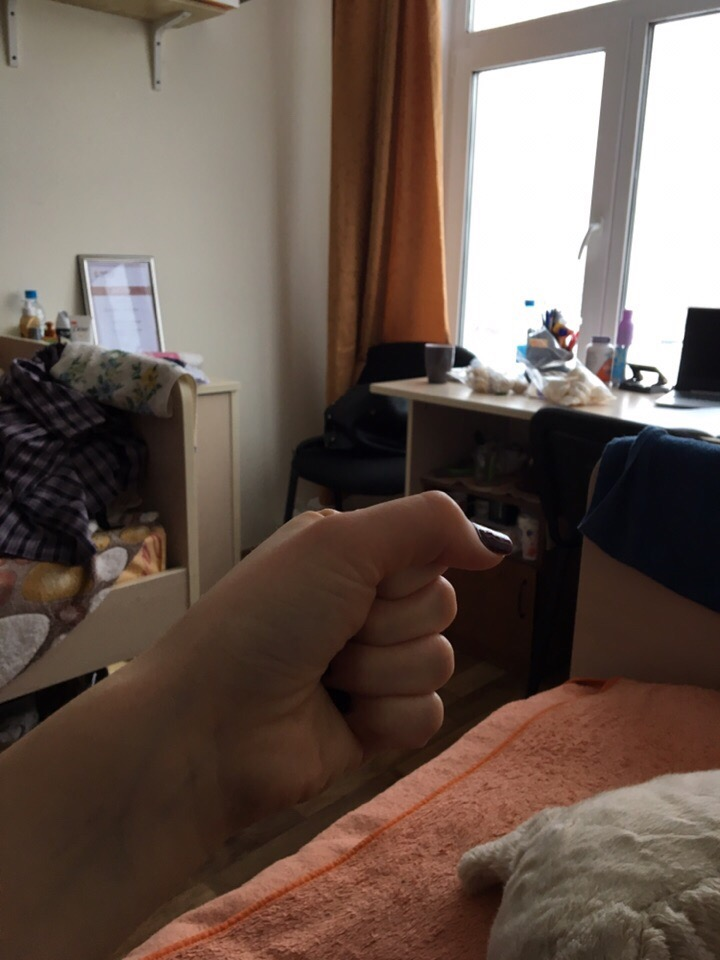hand: (253, 503, 489, 720)
